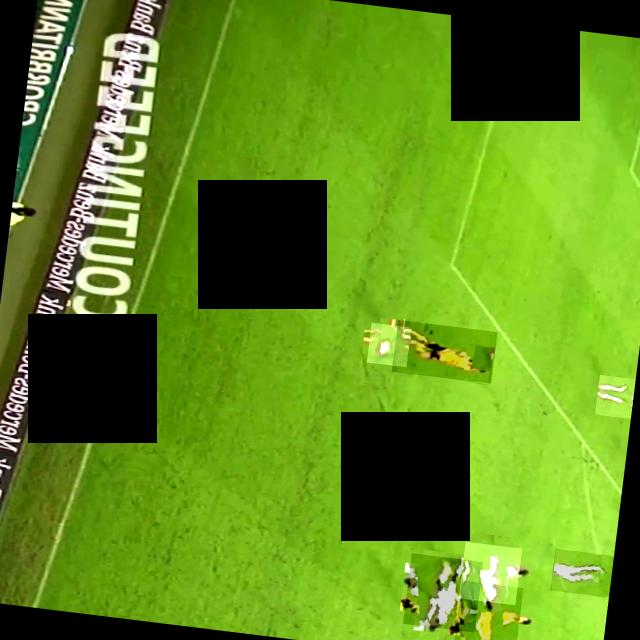ball: (366, 321, 411, 366)
soccer-player: (391, 318, 497, 382), (403, 552, 483, 631), (454, 579, 523, 640), (458, 540, 522, 604), (550, 548, 614, 596), (594, 373, 636, 418)
